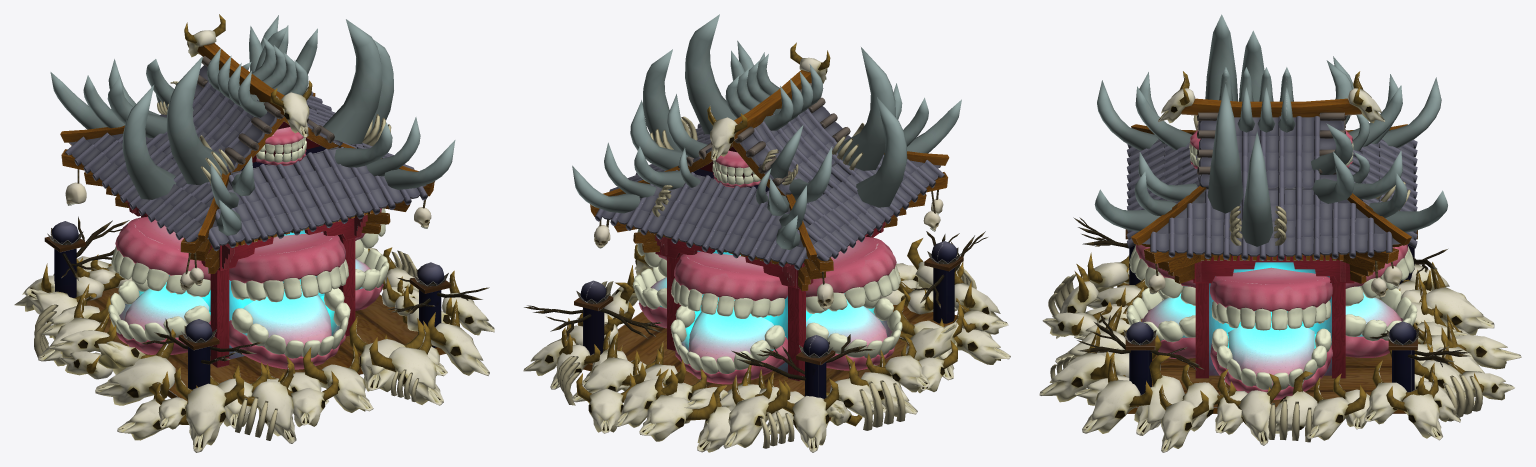
Rendered from shrine.glb.
3 views of the same model, side by side, from view 1: azimuth 30°, elevation 25°; view 2: azimuth 150°, elevation 25°; view 3: azimuth 270°, elevation 25° (orthographic). The views are drawn at different scales.
Parts seen in each view (by area): view 1: Shrine; view 2: Shrine; view 3: Shrine.
Boxes of the visible parts, left/top/right/bottom form: Shrine: left=14, top=14, right=494, bottom=452; Shrine: left=523, top=14, right=1010, bottom=452; Shrine: left=1039, top=14, right=1521, bottom=452.
Size of the model in its own units: 4.29 by 3.6 by 4.74.
5 materials, 5 textured.
